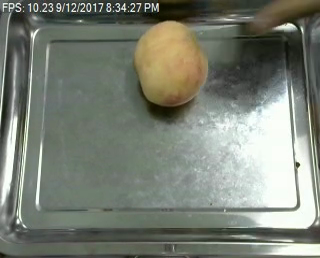Peach: (135, 20, 206, 106)
